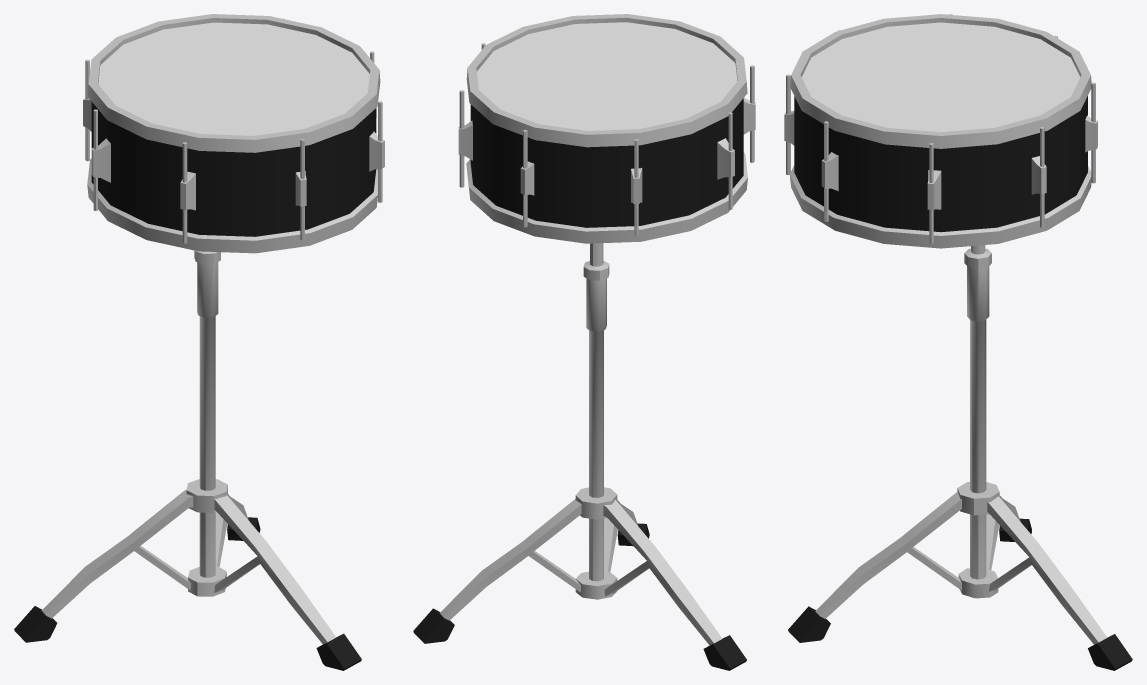
File: SM_Drum_4k_3.fbx
The picture shows the model from 3 angles, left to right: view 1: azimuth 30°, elevation 25°; view 2: azimuth 150°, elevation 25°; view 3: azimuth 270°, elevation 25°; orthographic projection. The views are drawn at different scales.
Visible parts, largest first — view 1: Drum_4k.003; view 2: Drum_4k.003; view 3: Drum_4k.003.
Boxes of the visible parts, bbox=[...] form: Drum_4k.003: bbox=[14, 14, 384, 670]; Drum_4k.003: bbox=[413, 14, 755, 670]; Drum_4k.003: bbox=[784, 14, 1132, 670].
Bounding box in the file's own units: 38.84 × 64.57 × 37.62.
Materials: 1 (1 with a texture image).
